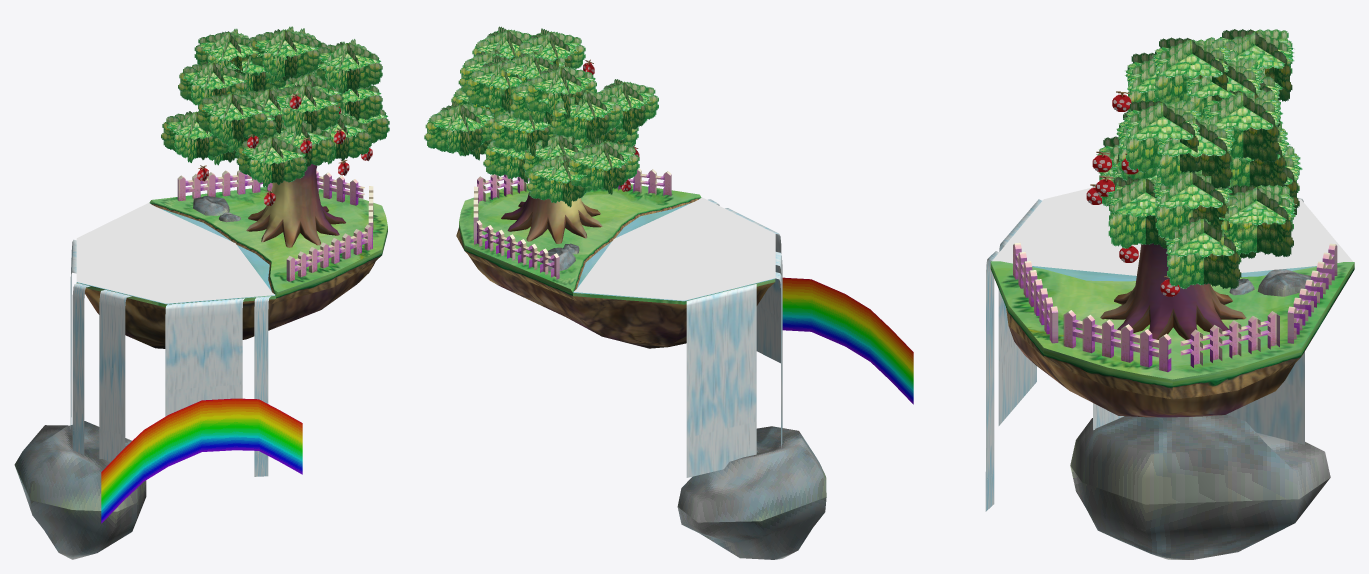
File: Island 1.dae
3 views of the same model, side by side, from view 1: azimuth 30°, elevation 25°; view 2: azimuth 150°, elevation 25°; view 3: azimuth 270°, elevation 25° (orthographic). The views are drawn at different scales.
Parts seen in each view (by area): view 1: DrawCall_0179, DrawCall_0135, DrawCall_0126, DrawCall_0127, DrawCall_0088, DrawCall_0178, DrawCall_0098, DrawCall_0096, DrawCall_0131, DrawCall_0087, DrawCall_0097, DrawCall_0086 (+7 smaller); view 2: DrawCall_0179, DrawCall_0135, DrawCall_0129, DrawCall_0098, DrawCall_0088, DrawCall_0126, DrawCall_0178, DrawCall_0087, DrawCall_0097, DrawCall_0096, DrawCall_0086, DrawCall_0127 (+2 smaller); view 3: DrawCall_0179, DrawCall_0098, DrawCall_0088, DrawCall_0178, DrawCall_0097, DrawCall_0135, DrawCall_0096, DrawCall_0090, DrawCall_0086, DrawCall_0087, DrawCall_0129, DrawCall_0127 (+4 smaller).
Boxes of the visible parts, <box> form: DrawCall_0179: <box>161,26,389,187</box>; DrawCall_0135: <box>76,203,275,303</box>; DrawCall_0126: <box>101,398,302,523</box>; DrawCall_0127: <box>165,298,244,416</box>; DrawCall_0088: <box>76,187,387,307</box>; DrawCall_0178: <box>166,32,387,164</box>; DrawCall_0098: <box>14,421,145,511</box>; DrawCall_0096: <box>177,170,373,281</box>; DrawCall_0131: <box>99,290,131,462</box>; DrawCall_0087: <box>85,262,375,348</box>; DrawCall_0097: <box>15,467,146,559</box>; DrawCall_0086: <box>246,164,345,247</box>; DrawCall_0179: <box>424,26,658,207</box>; DrawCall_0135: <box>573,197,775,300</box>; DrawCall_0129: <box>686,284,756,477</box>; DrawCall_0098: <box>677,426,826,522</box>; DrawCall_0088: <box>459,183,775,304</box>; DrawCall_0126: <box>782,277,913,404</box>; DrawCall_0178: <box>427,31,653,183</box>; DrawCall_0087: <box>468,255,774,348</box>; DrawCall_0097: <box>677,497,826,559</box>; DrawCall_0096: <box>473,168,671,279</box>; DrawCall_0086: <box>501,192,602,243</box>; DrawCall_0127: <box>725,208,781,363</box>; DrawCall_0179: <box>1099,29,1299,289</box>; DrawCall_0098: <box>1070,414,1330,504</box>; DrawCall_0088: <box>990,261,1354,379</box>; DrawCall_0178: <box>1096,37,1302,257</box>; DrawCall_0097: <box>1070,466,1329,559</box>; DrawCall_0135: <box>992,187,1352,275</box>; DrawCall_0096: <box>1013,242,1337,372</box>; DrawCall_0090: <box>990,262,1354,399</box>; DrawCall_0086: <box>1100,243,1246,346</box>; DrawCall_0087: <box>1008,326,1294,417</box>; DrawCall_0129: <box>1226,197,1304,444</box>; DrawCall_0127: <box>998,199,1042,425</box>.
Size of the model in its own units: 8089 by 9874 by 5464.
Materials: 15 (15 with a texture image).
